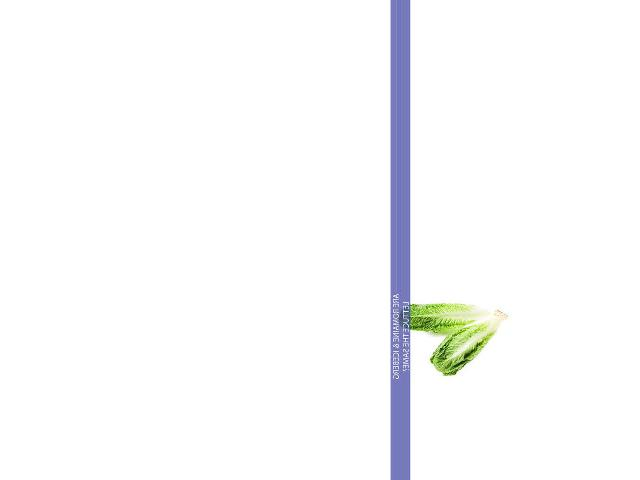lettuce: (425, 310, 517, 372)
